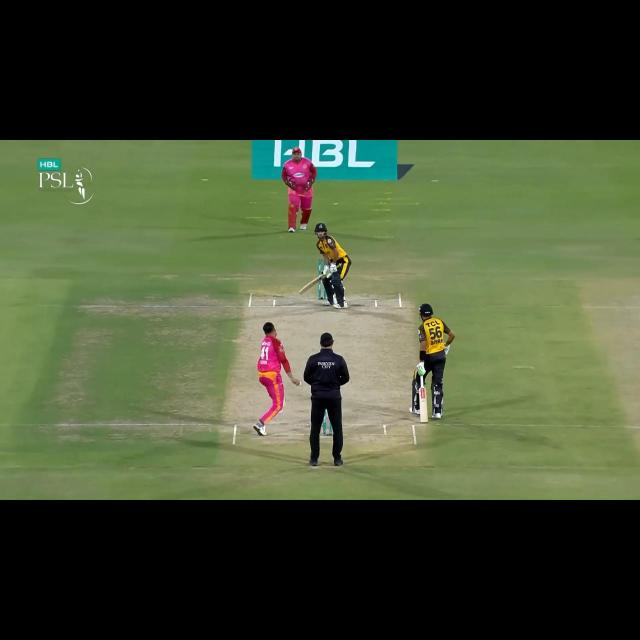bat: (296, 273, 326, 295), (417, 391, 430, 422)
toe: (418, 414, 429, 424), (296, 289, 307, 296)
